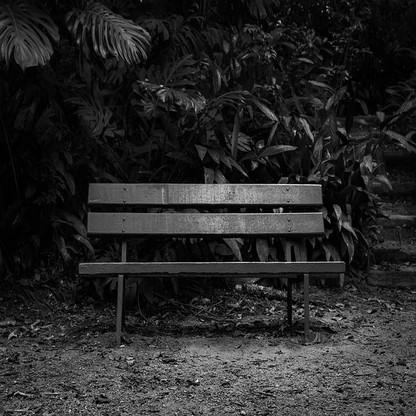obstacle: (71, 167, 352, 345)
